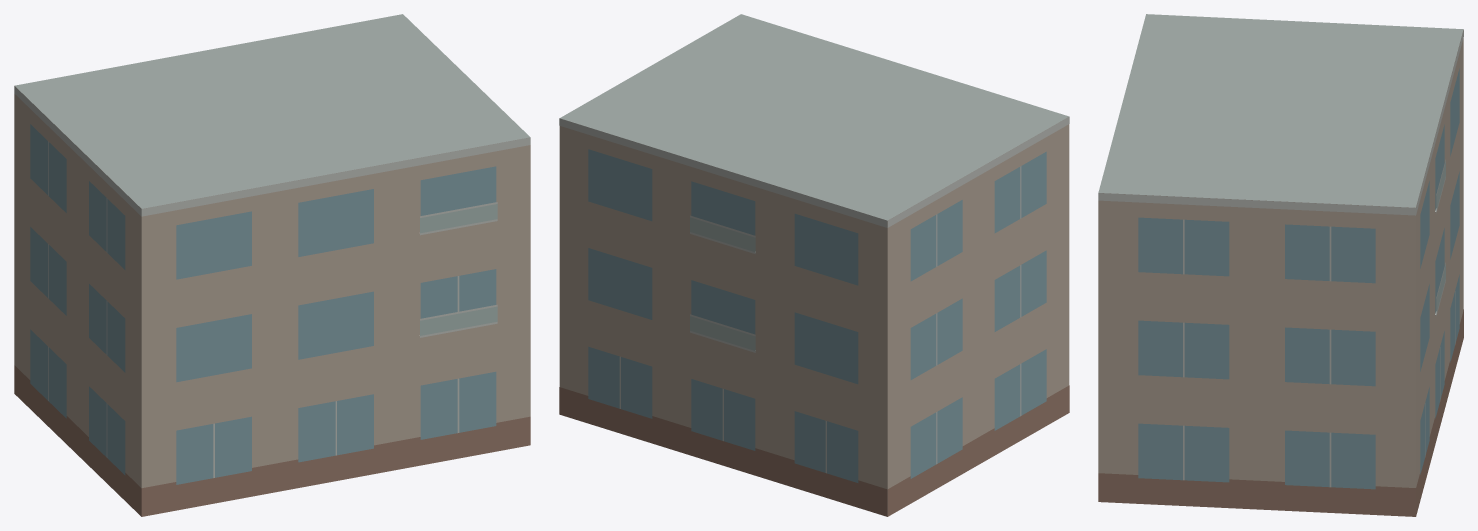
Rendered from survey-upis-32819219.glb.
The picture shows the model from 3 angles, left to right: view 1: azimuth 30°, elevation 25°; view 2: azimuth 150°, elevation 25°; view 3: azimuth 270°, elevation 25°; orthographic projection. The views are drawn at different scales.
Visible parts, largest first — view 1: survey-upis-32819219.tmp; view 2: survey-upis-32819219.tmp; view 3: survey-upis-32819219.tmp.
Boxes of the visible parts, <box> form: survey-upis-32819219.tmp: <box>14,14,530,516</box>; survey-upis-32819219.tmp: <box>559,14,1069,516</box>; survey-upis-32819219.tmp: <box>1098,14,1463,516</box>.
Bounding box in the file's own units: 13.12 × 9.75 × 10.46.
